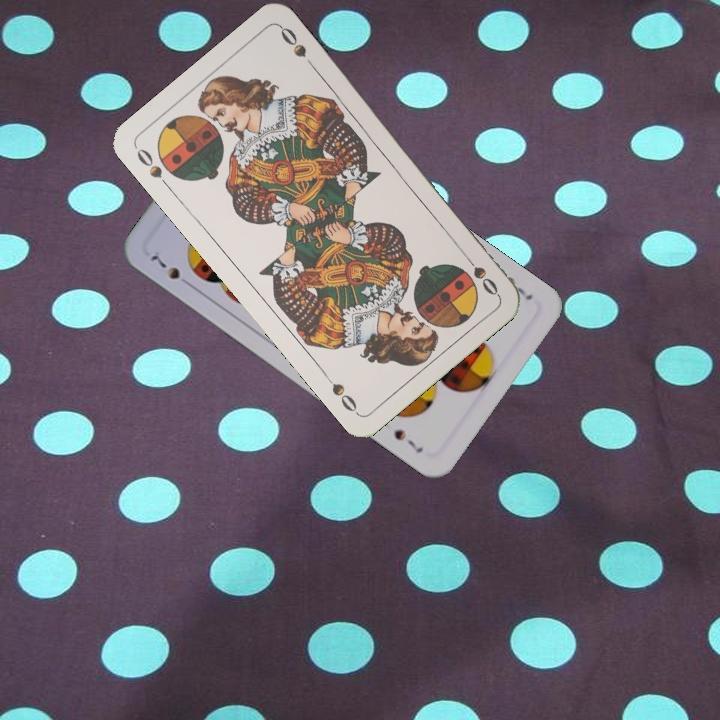S7: (147, 251, 195, 290)
SO: (458, 248, 501, 298), (132, 144, 174, 193)
